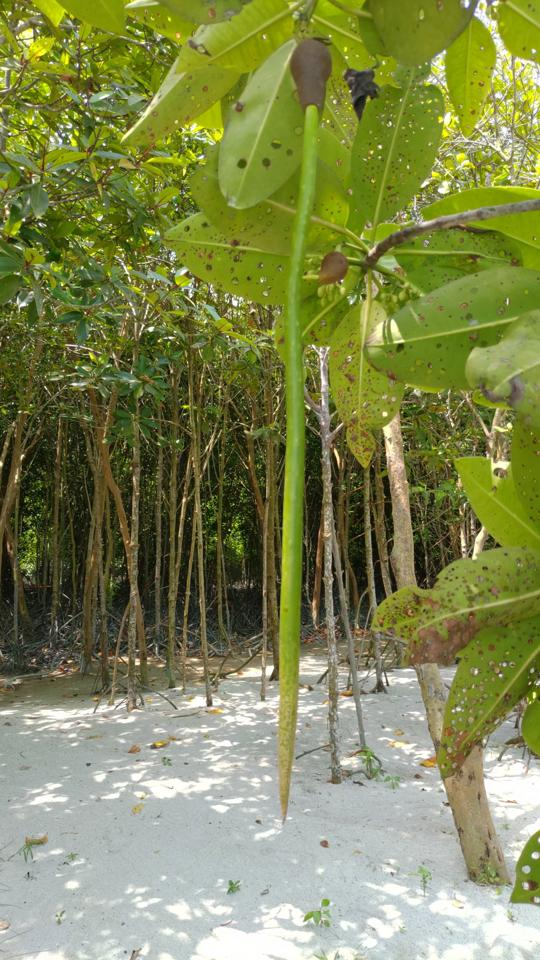mentah: (271, 27, 348, 838)
